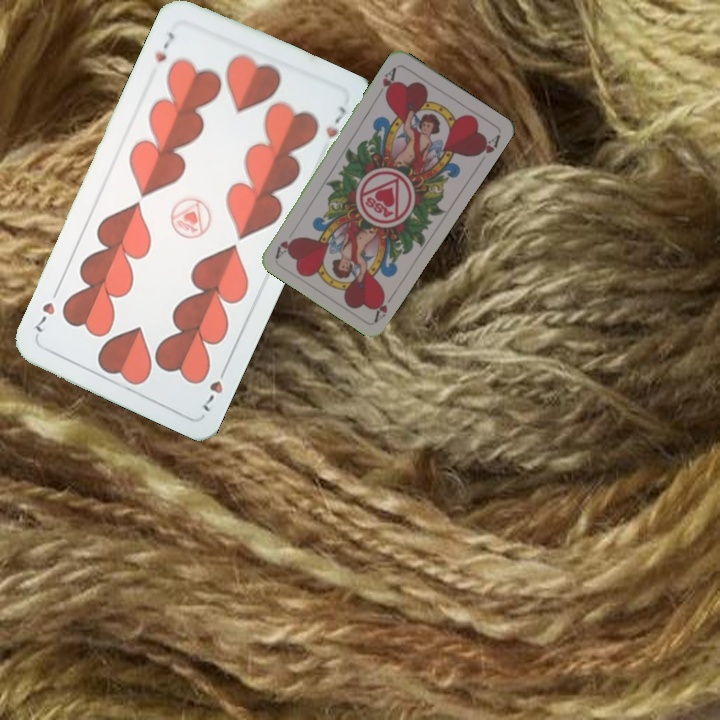H7: (198, 360, 230, 415), (151, 28, 178, 65)
HA: (373, 63, 399, 100), (369, 289, 390, 324)
